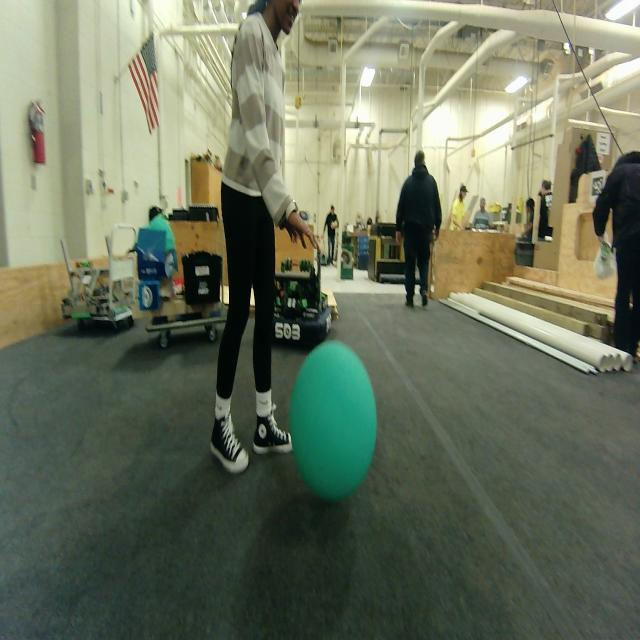algae: (286, 336, 379, 506)
